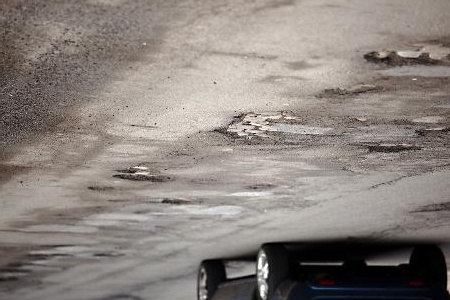pothole: (211, 107, 300, 143), (360, 42, 450, 73), (111, 160, 174, 183), (406, 113, 449, 137), (363, 140, 419, 155), (410, 198, 449, 215), (158, 196, 193, 205)
